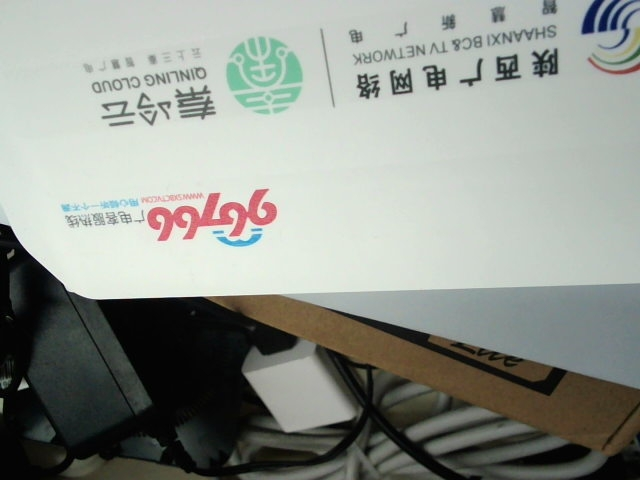AE_QinLing: (65, 28, 308, 142)
